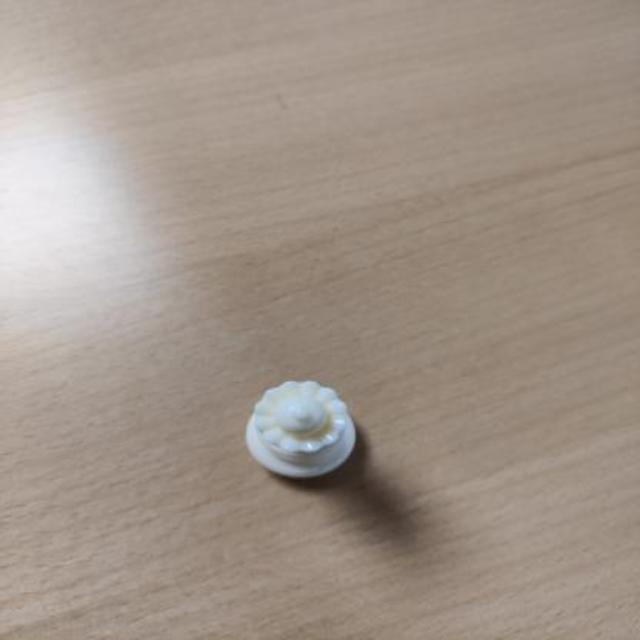white-queen: (248, 381, 358, 481)
